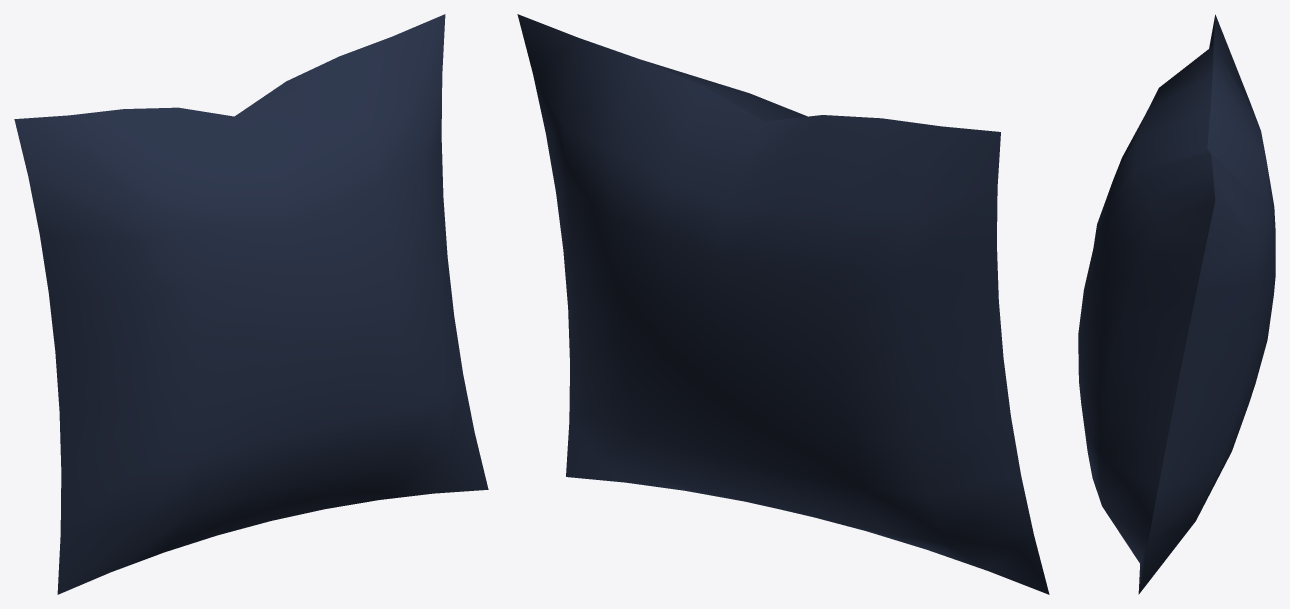
The model's file is decor_c_cushion_navy.gltf.
3 views of the same model, side by side, from view 1: azimuth 30°, elevation 25°; view 2: azimuth 150°, elevation 25°; view 3: azimuth 270°, elevation 25° (orthographic). The views are drawn at different scales.
Parts seen in each view (by area): view 1: DecorC_CushionNavy_Navy_NoCollide; view 2: DecorC_CushionNavy_Navy_NoCollide; view 3: DecorC_CushionNavy_Navy_NoCollide.
Part boxes in pixels (bbox=[...]): DecorC_CushionNavy_Navy_NoCollide: bbox=[14, 14, 488, 594]; DecorC_CushionNavy_Navy_NoCollide: bbox=[517, 14, 1049, 594]; DecorC_CushionNavy_Navy_NoCollide: bbox=[1078, 14, 1275, 594].
Size of the model in its own units: 0.5 by 0.4924 by 0.2236.
